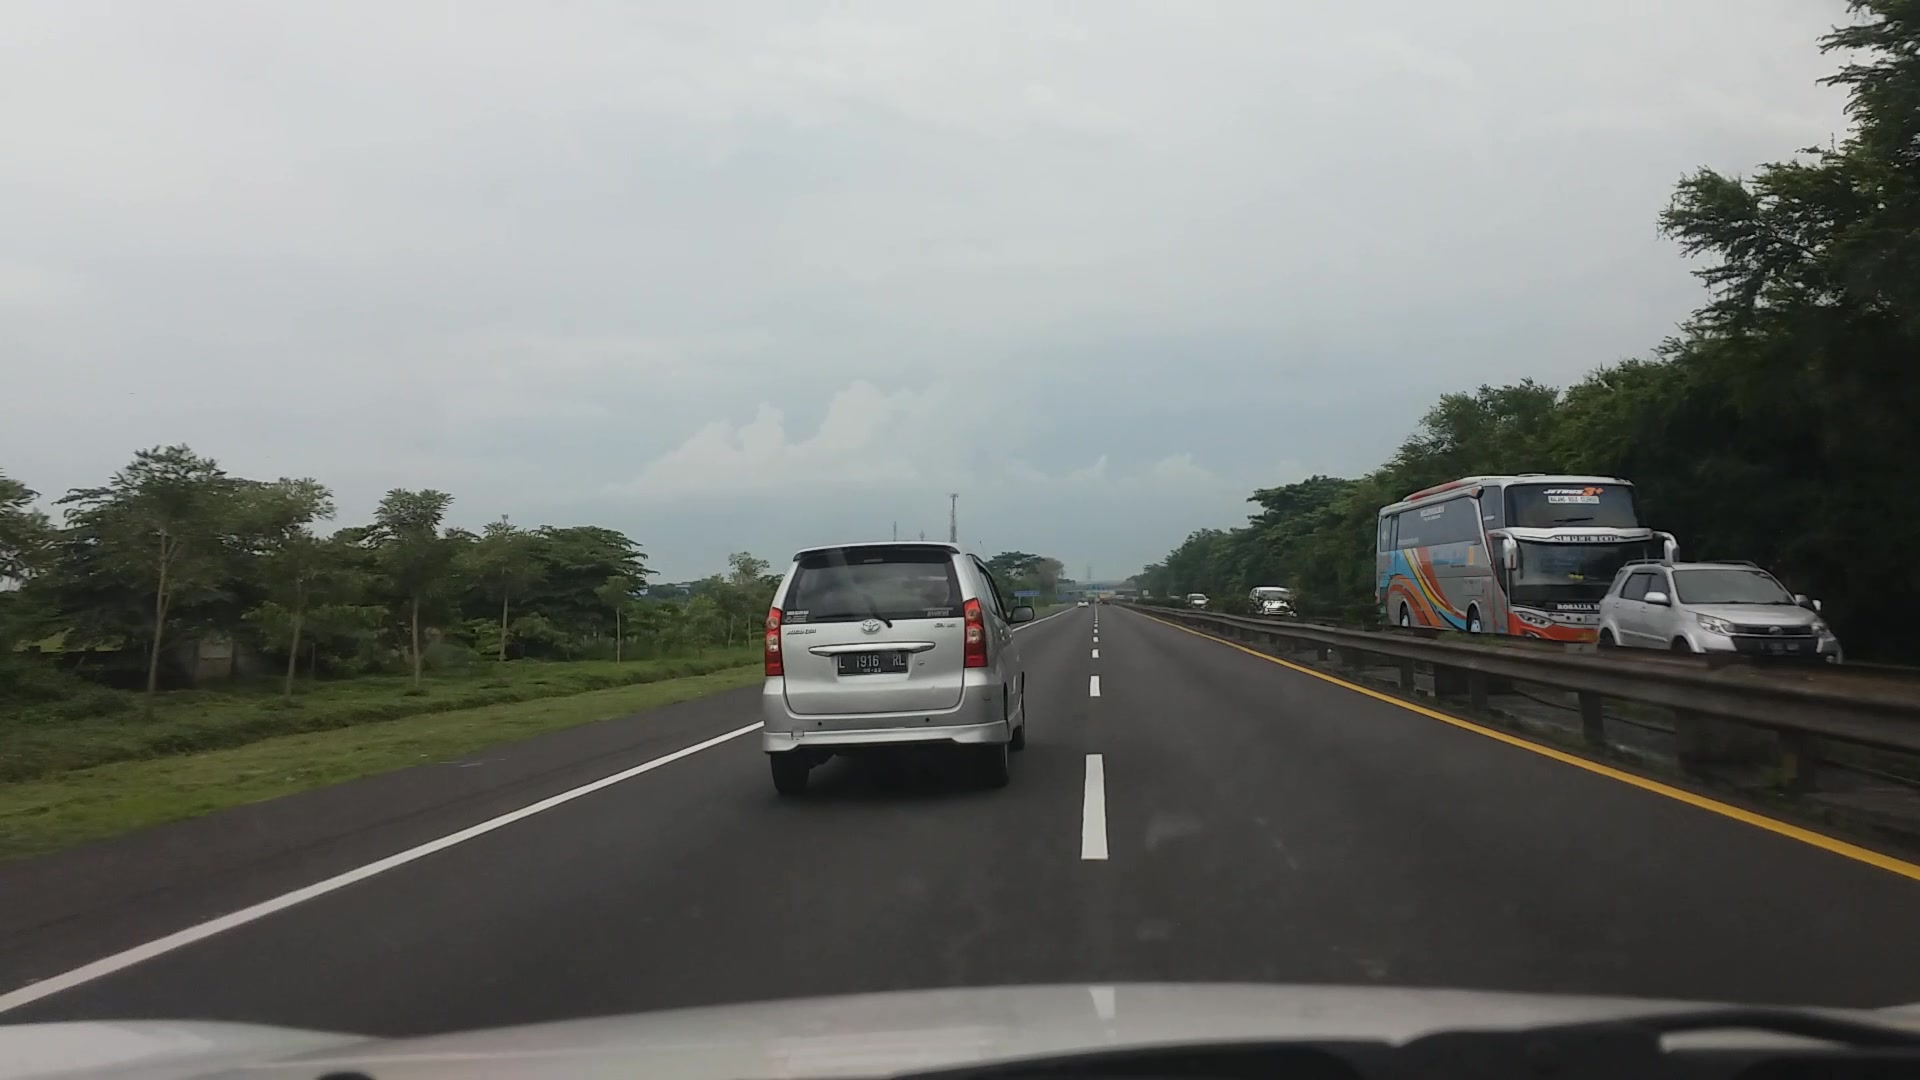plate_positive: (837, 651, 907, 675)
